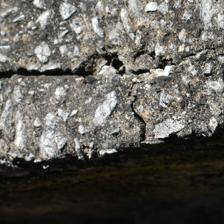Crack: (40, 88, 116, 133), (0, 191, 68, 224)
